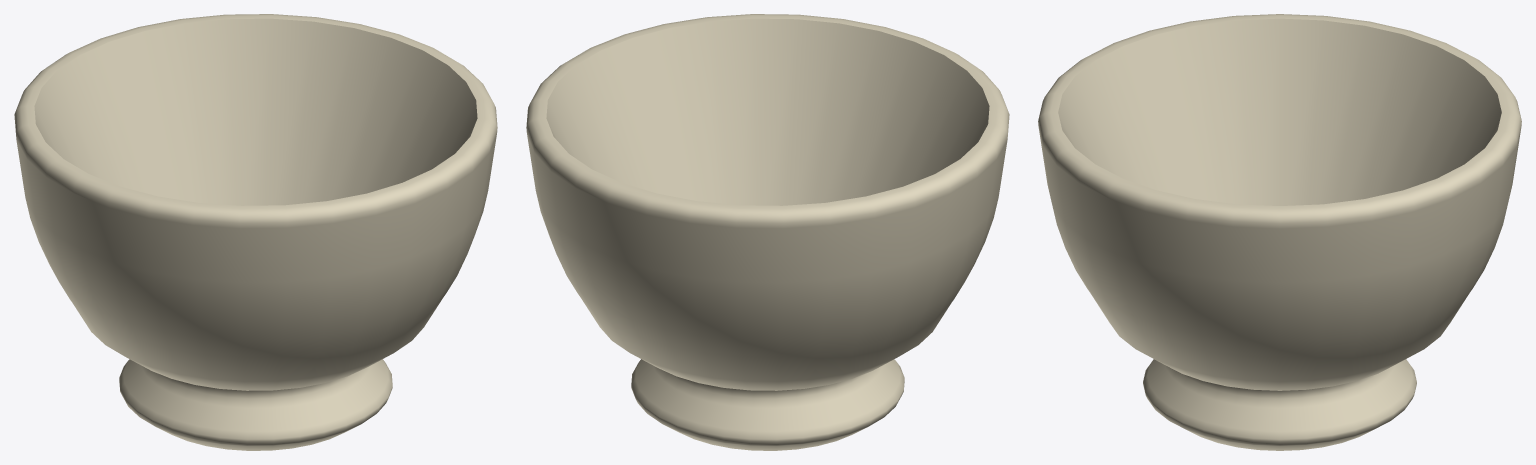
Rendered from cup.fbx.
3 views of the same model, side by side, from view 1: azimuth 30°, elevation 25°; view 2: azimuth 150°, elevation 25°; view 3: azimuth 270°, elevation 25° (orthographic).
Visible parts, largest first — view 1: Cylinder; view 2: Cylinder; view 3: Cylinder.
Part boxes in pixels (x1=…): Cylinder: x1=14, y1=14, x2=497, y2=450; Cylinder: x1=526, y1=14, x2=1009, y2=450; Cylinder: x1=1038, y1=14, x2=1521, y2=450.
Bounding box in the file's own units: 11.89 × 7.9 × 11.89.
